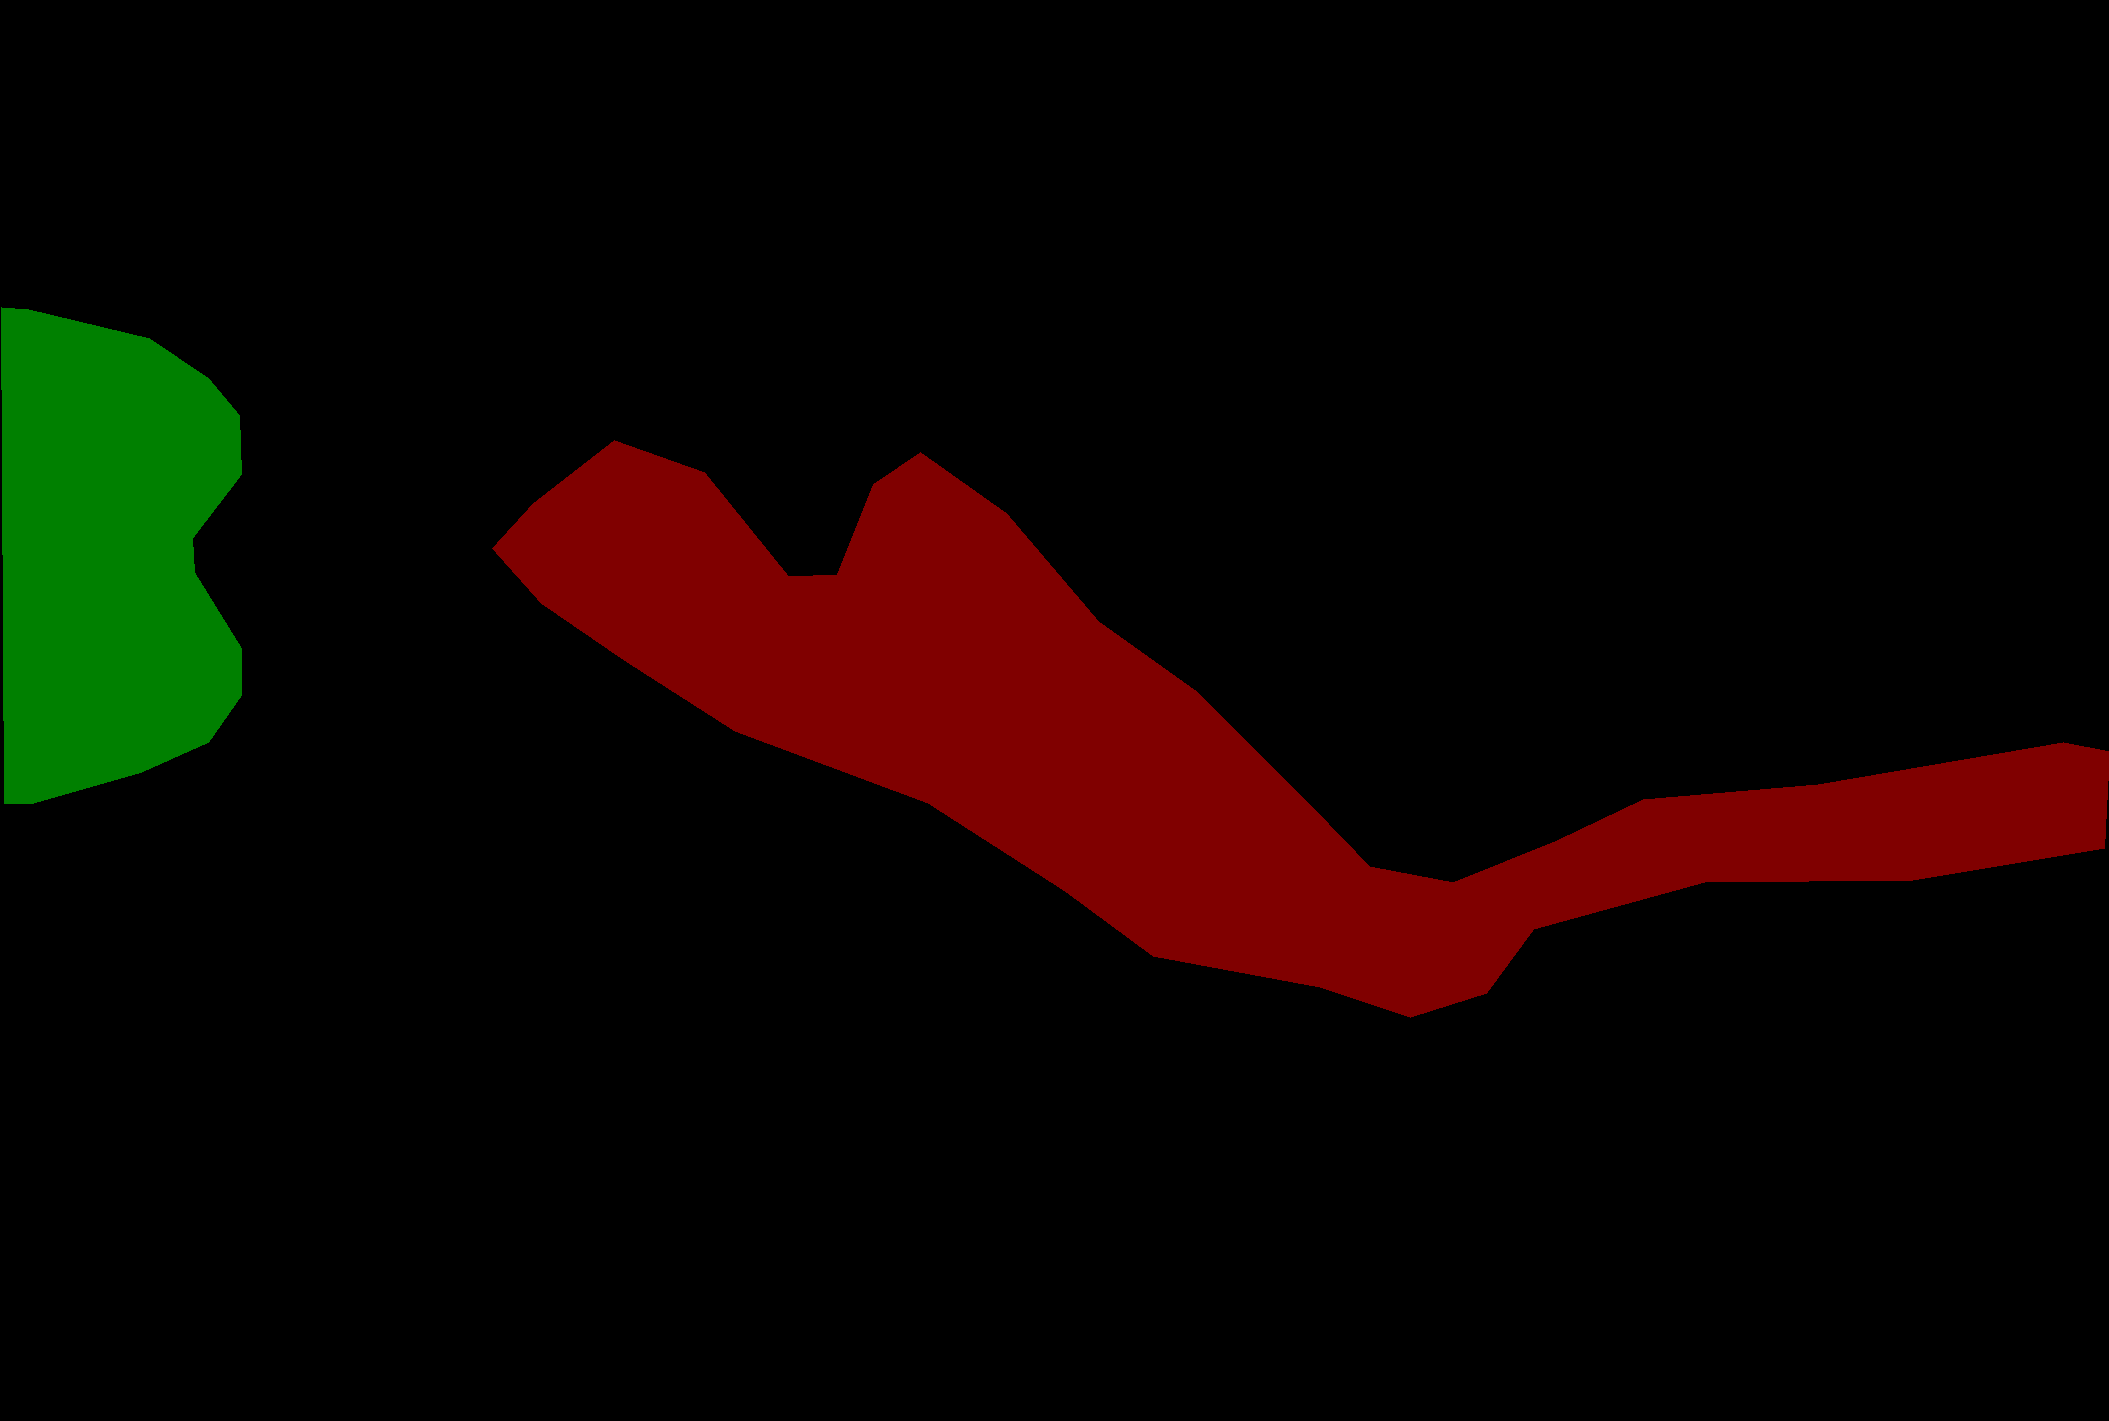fire: (492, 439, 2109, 1017), (2, 308, 241, 802)
